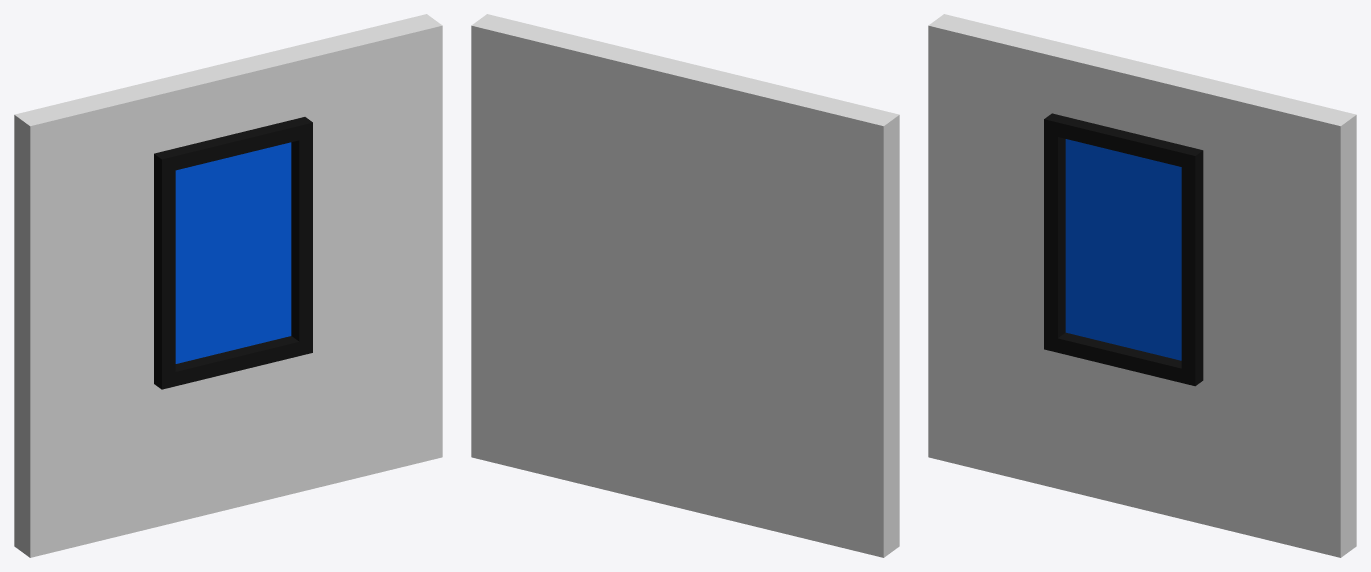
File: wall-frame.glb
3 views of the same model, side by side, from view 1: azimuth 30°, elevation 25°; view 2: azimuth 150°, elevation 25°; view 3: azimuth 330°, elevation 25° (orthographic).
Visible parts, largest first — view 1: wall-frame, frame; view 2: wall-frame; view 3: wall-frame, frame.
Part boxes in pixels (x1=…): wall-frame: x1=14, y1=14, x2=442, y2=557; frame: x1=175, y1=142, x2=291, y2=363; wall-frame: x1=471, y1=14, x2=899, y2=557; wall-frame: x1=928, y1=14, x2=1356, y2=557; frame: x1=1065, y1=139, x2=1181, y2=360.
Size of the model in its own units: 3 by 3 by 0.3.
Materials: 2 (2 with a texture image).
